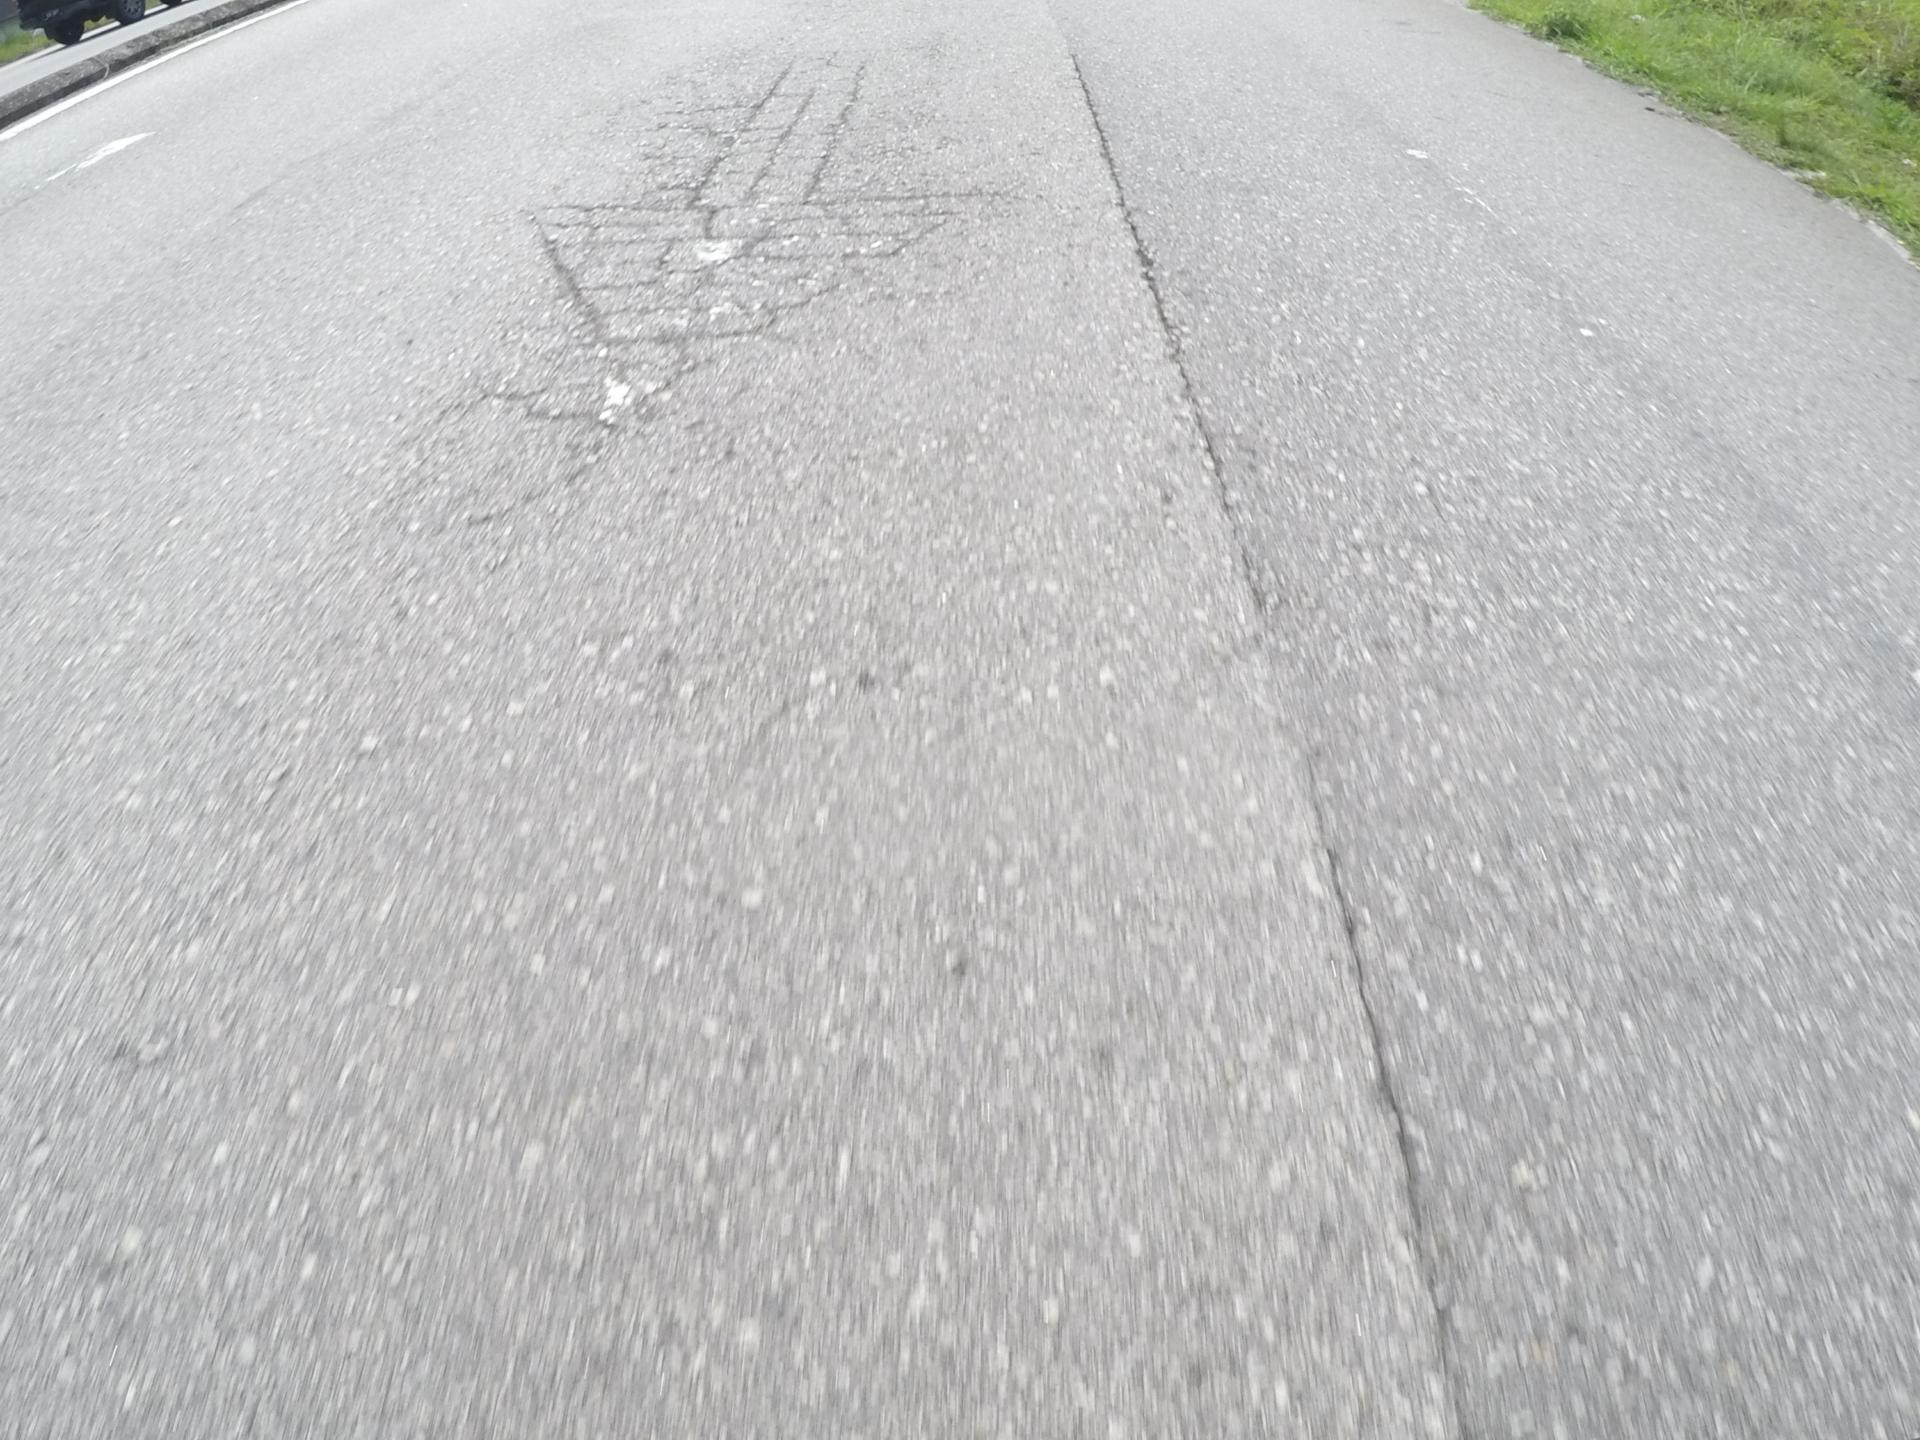crocodile: (488, 47, 1025, 396)
